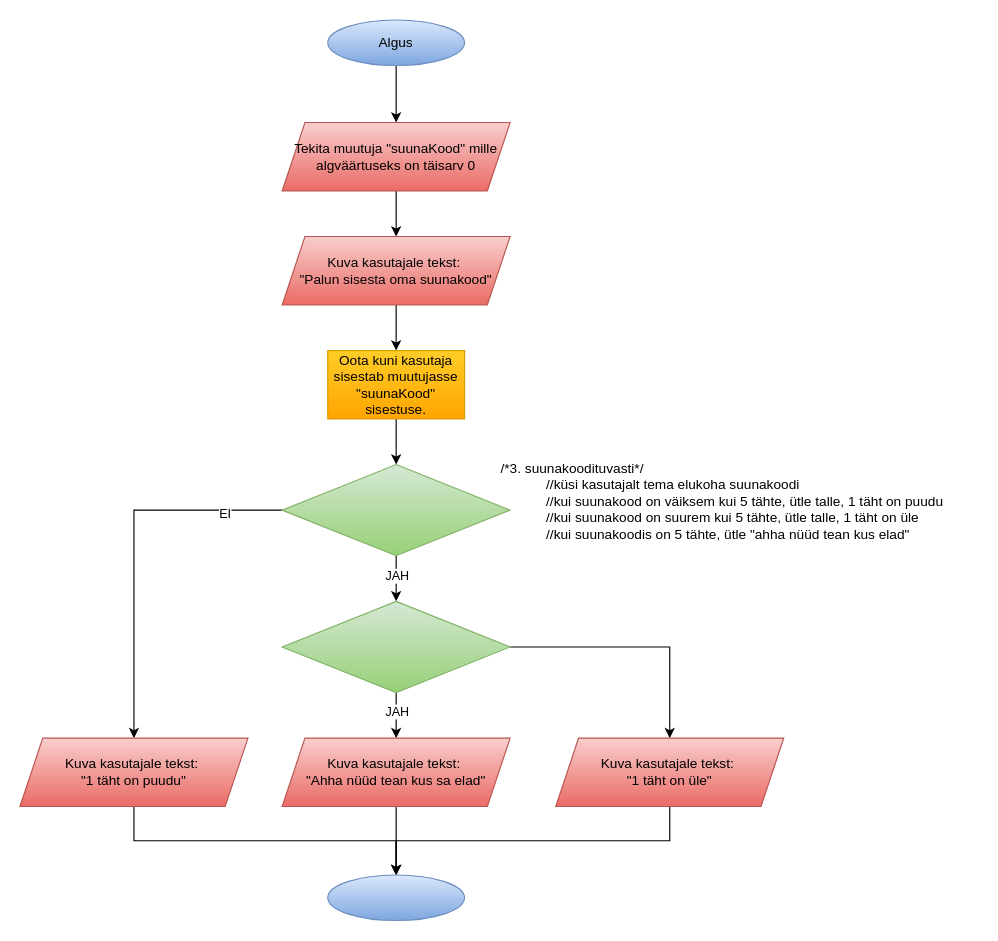
Image size: 998x941. Some labels were removed from this diagram. The shapes that lost their labels are listed below. From the top down, each one's box as (x1, y1, x2, y2) in pixels, then its label:
(281, 463, 510, 556): Kas kasutaja poolt sisestatud suunakoodi pikkus on suurem kui 9999?
(281, 600, 510, 693): Kas kasutaja poolt sisestatud suunakoodi pikkus on väiksem kui 100000?
(327, 874, 465, 921): Lõpp
